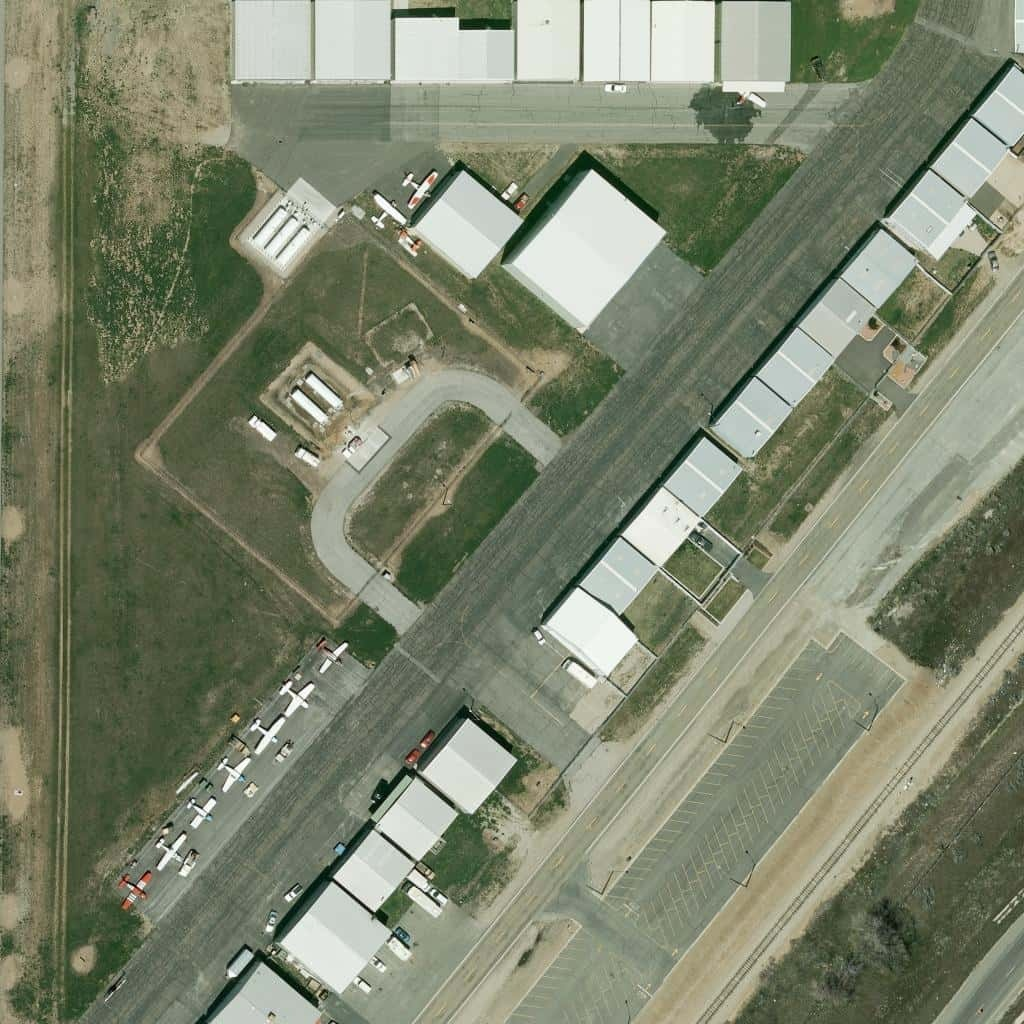plane: (112, 871, 149, 915), (152, 831, 189, 875), (181, 793, 218, 837), (218, 755, 255, 799), (246, 713, 283, 757), (274, 677, 311, 721), (315, 638, 352, 682), (372, 184, 409, 228), (401, 167, 438, 211), (725, 88, 774, 117)
